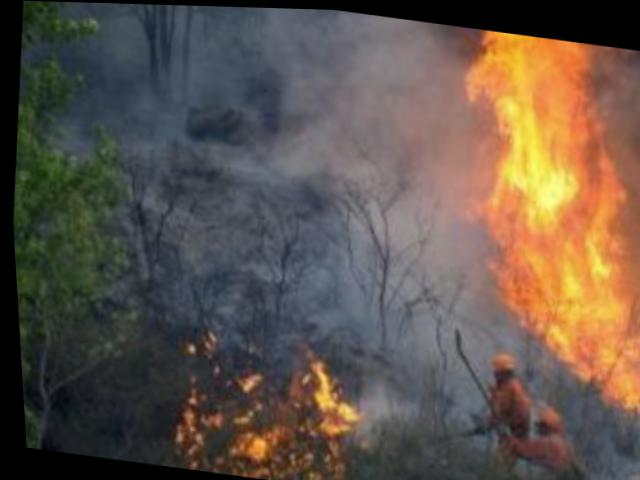fire: (479, 93, 625, 319), (528, 262, 639, 404), (460, 25, 594, 107), (295, 344, 356, 434), (212, 424, 277, 476)
